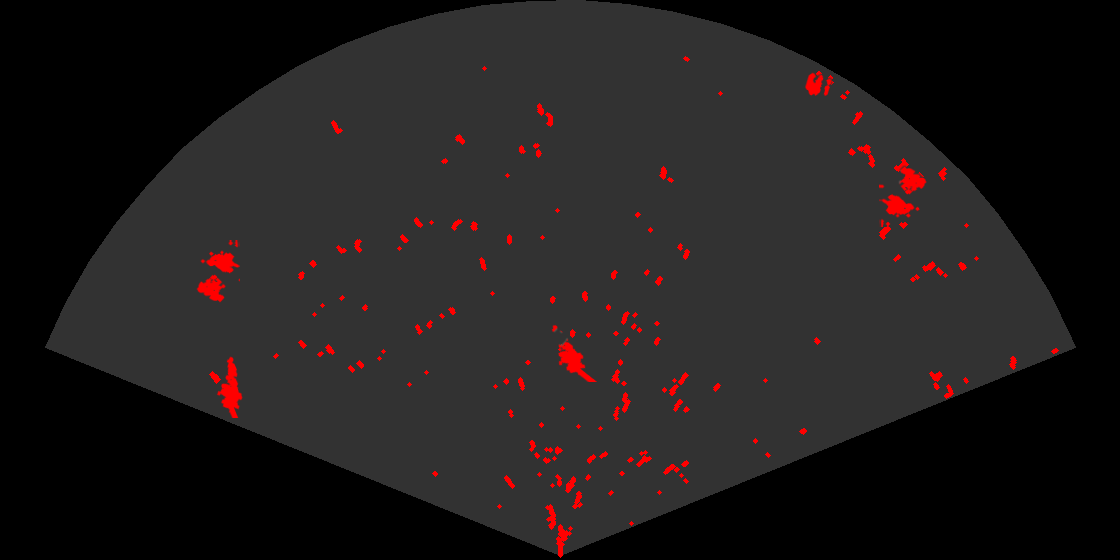ball: (803, 71, 833, 98)
cage: (879, 165, 928, 227), (195, 240, 240, 304)
frogman: (550, 323, 597, 382), (215, 355, 244, 418)
